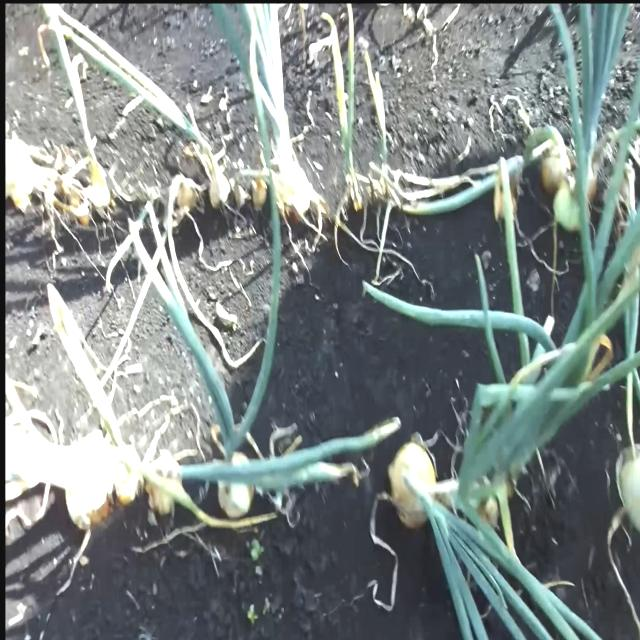onion: (388, 440, 438, 530), (218, 450, 255, 520), (616, 443, 640, 540)
